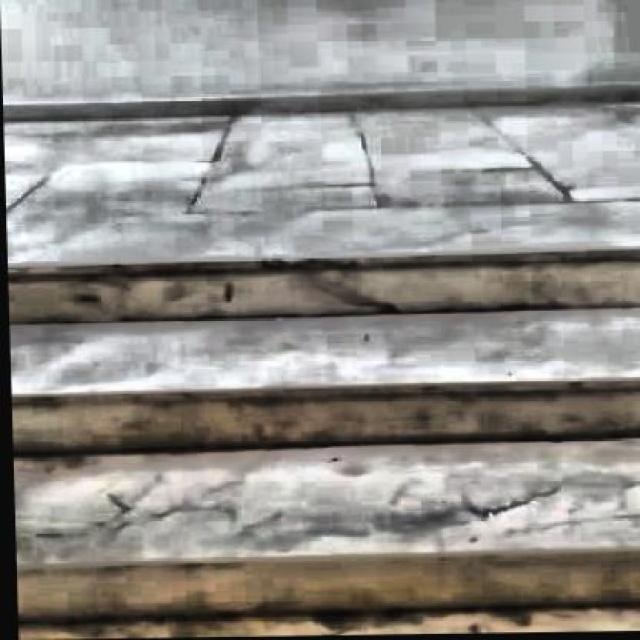stair: (4, 243, 638, 640)
